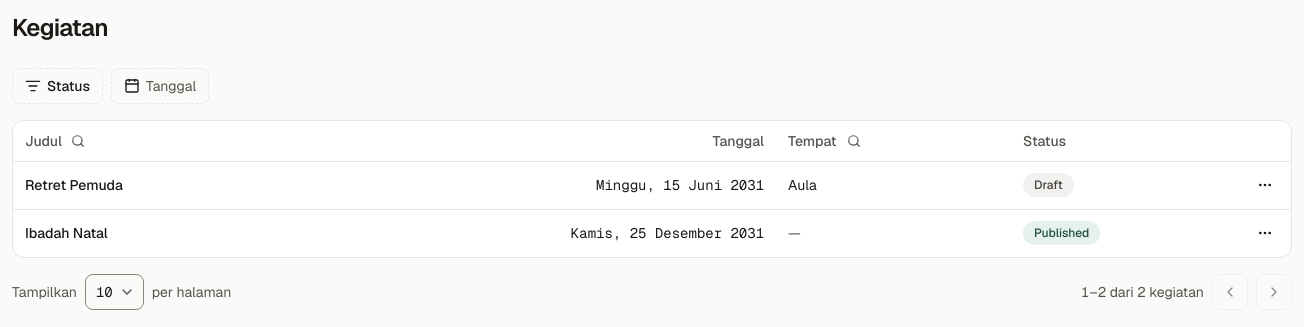
Test: KegiatanManager › read-only mode: no add action, no Terbitkan/Hapus in the row menu
This screenshot has width=1304, height=327.
What coordinates should you click on to do the following:
click the button named "Aksi untuk Retret Pemuda"
I would click on:
 (1265, 185)
Its box is 1251,171 -> 1279,199.
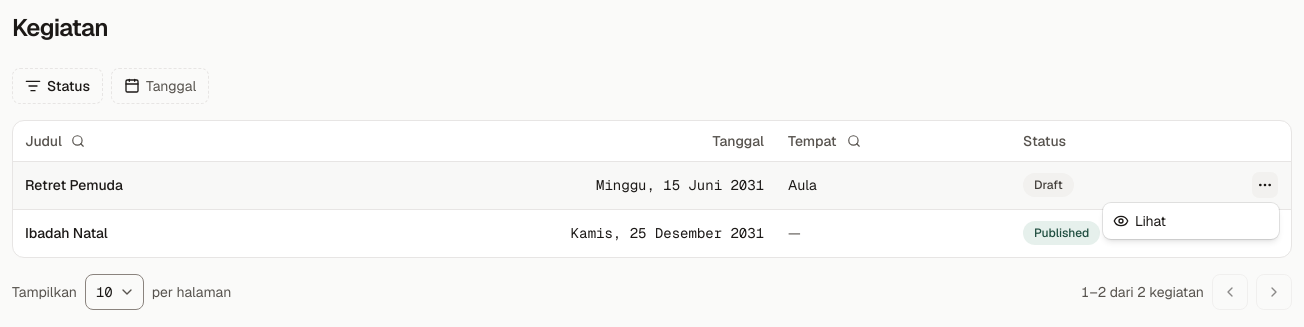
expect the menu item "Lihat" is shown: met, box 1113,212 -> 1166,230
